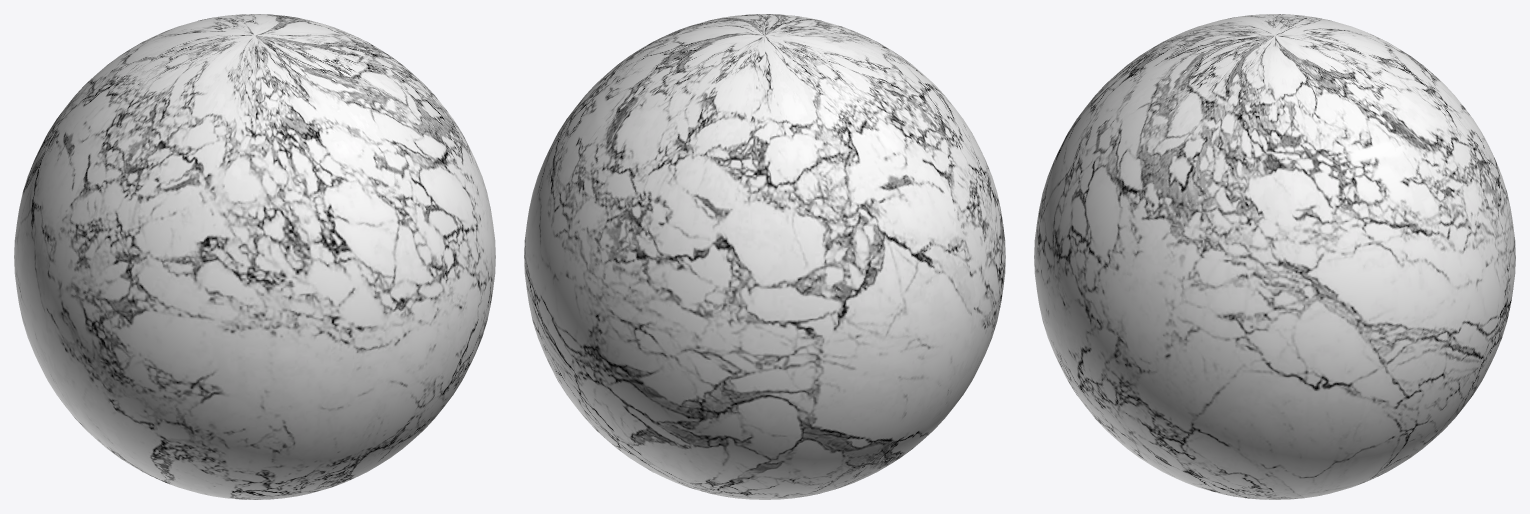
Rendered from sphere_marble.dae.
The picture shows the model from 3 angles, left to right: view 1: azimuth 30°, elevation 25°; view 2: azimuth 150°, elevation 25°; view 3: azimuth 270°, elevation 25°; orthographic projection.
Visible parts, largest first — view 1: Draw; view 2: Draw; view 3: Draw.
Part boxes in pixels (x1,y1,x2,y2): Draw: [14, 14, 495, 499]; Draw: [524, 14, 1005, 499]; Draw: [1034, 14, 1515, 499].
Size of what is drawn, in the model's own units: 1.97 by 1.97 by 2.
1 material, 1 textured.
